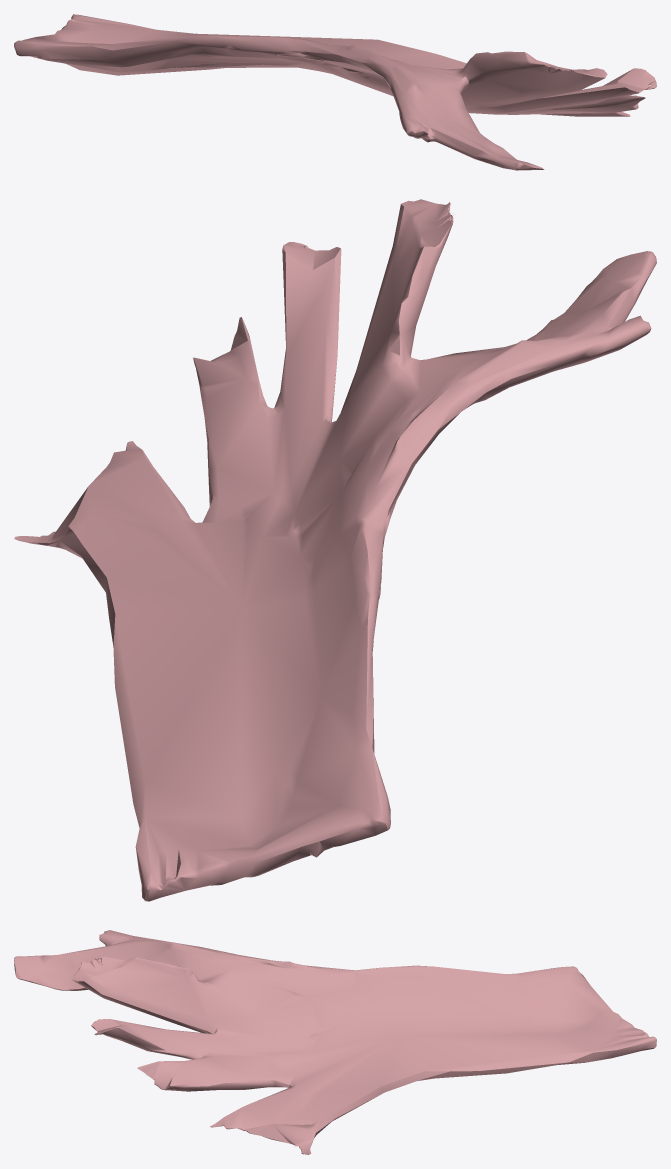
File: fma44250_fj1424m.glb
3 views of the same model, one above another, from view 1: azimuth 30°, elevation 25°; view 2: azimuth 150°, elevation 25°; view 3: azimuth 270°, elevation 25° (orthographic). The views are drawn at different scales.
Parts seen in each view (by area): view 1: FMA44250_FJ1424M; view 2: FMA44250_FJ1424M; view 3: FMA44250_FJ1424M.
Part boxes in pixels (left/top/right/bottom): FMA44250_FJ1424M: left=14, top=14, right=656, bottom=170; FMA44250_FJ1424M: left=14, top=199, right=656, bottom=901; FMA44250_FJ1424M: left=14, top=930, right=656, bottom=1154.
Bounding box in the file's own units: 0.0584 × 0.0247 × 0.097.
